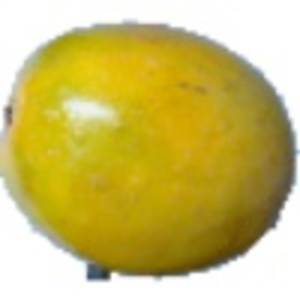maracujá: (1, 18, 300, 286)
